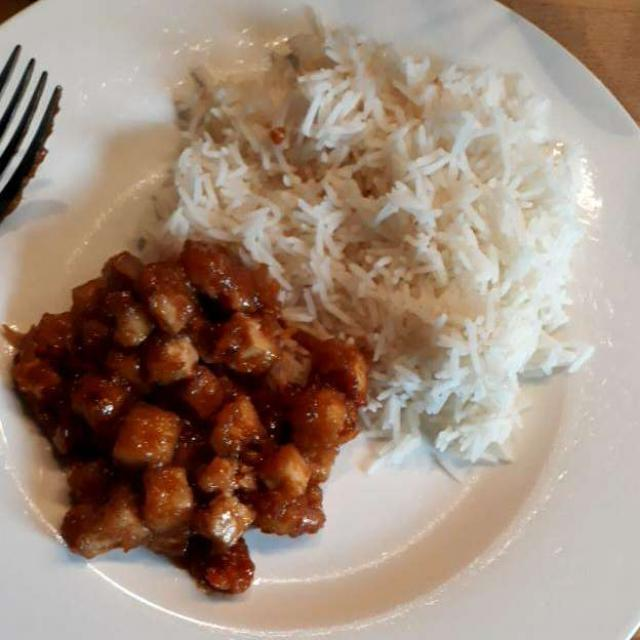rice: (167, 31, 581, 462)
tofu: (24, 254, 354, 582)
